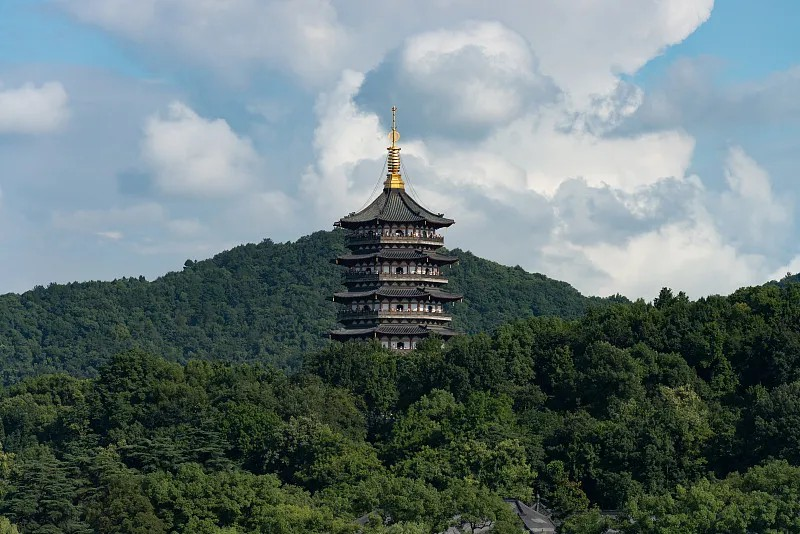Leifeng: (317, 106, 465, 356)
